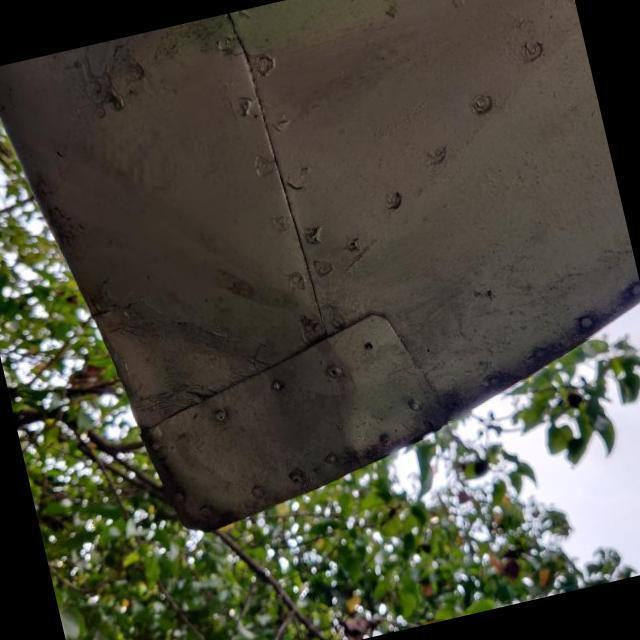Dent: (112, 247, 403, 562)
